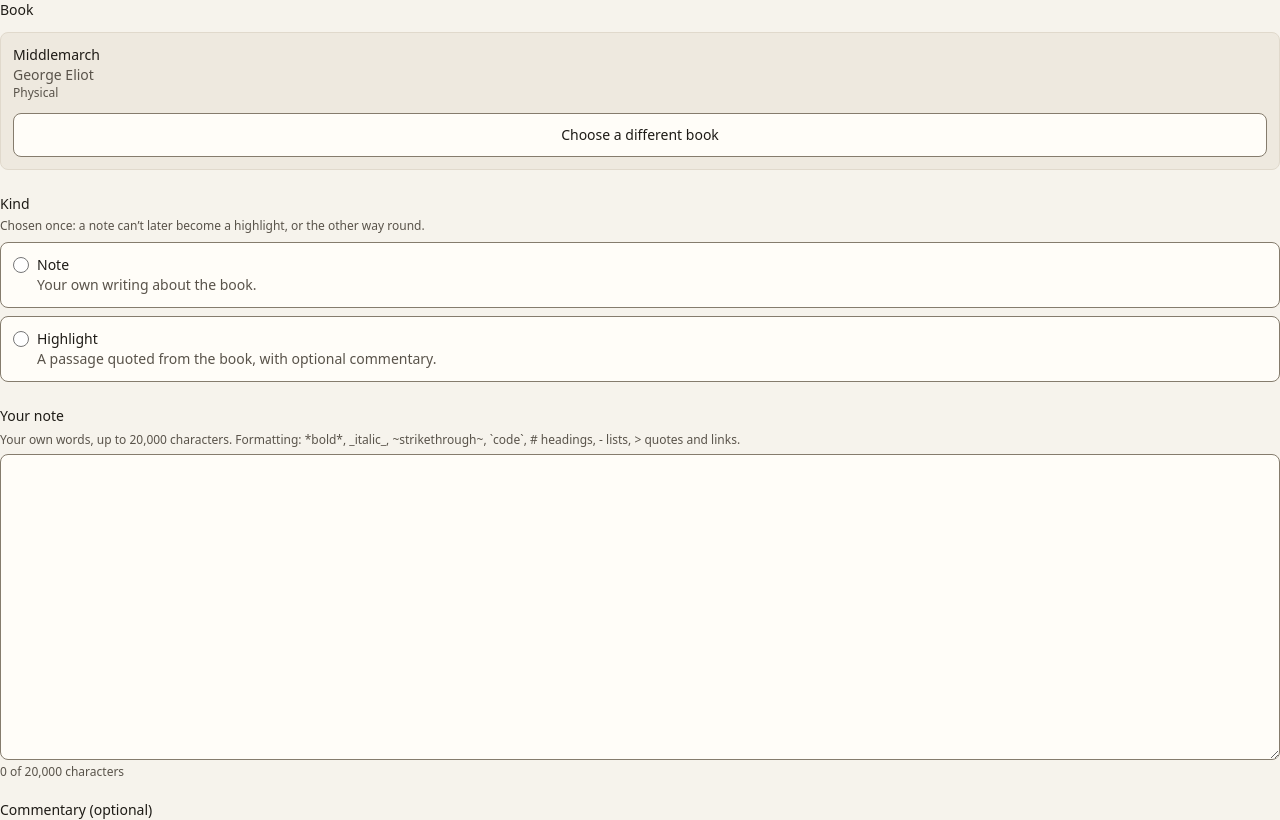
Test: NoteForm › reports an unconfirmed save honestly and never retries it by itself
The width and height of the screenshot is (1280, 820).
Click the radio button labelled "Note Your own writing about the book." at (21, 265), box [13, 257, 29, 273]
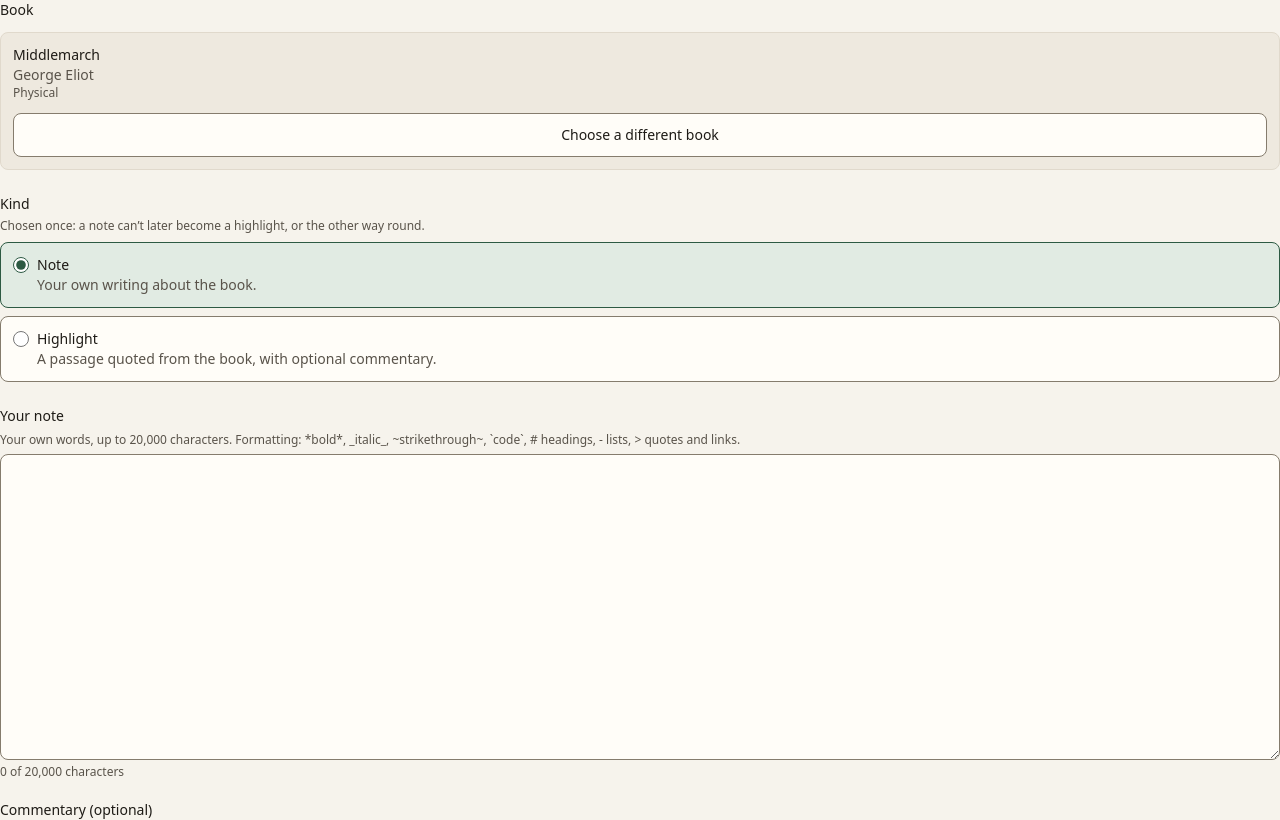
Type "Kept" into the text box named "content" at (640, 607), box [0, 454, 1279, 760]
(page scrolled)
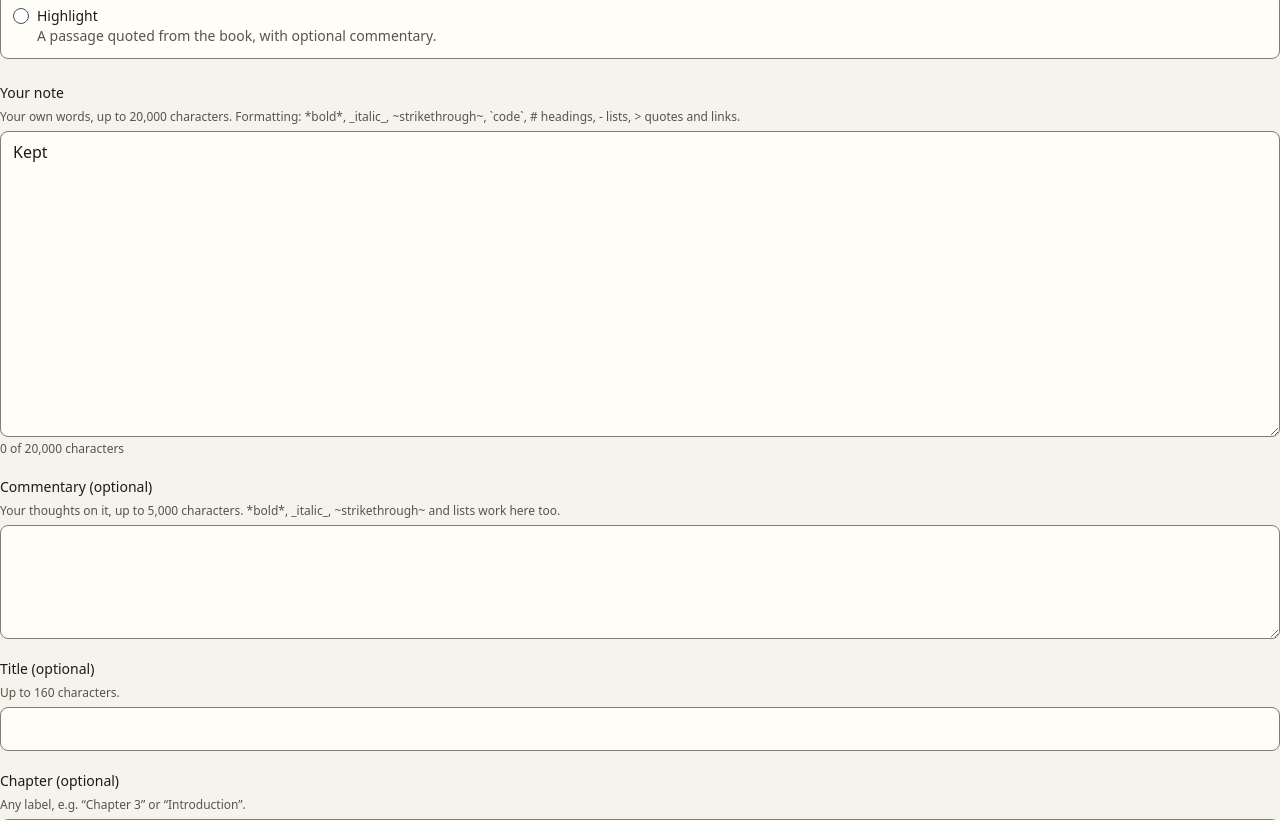
Submit the form
(page scrolled)
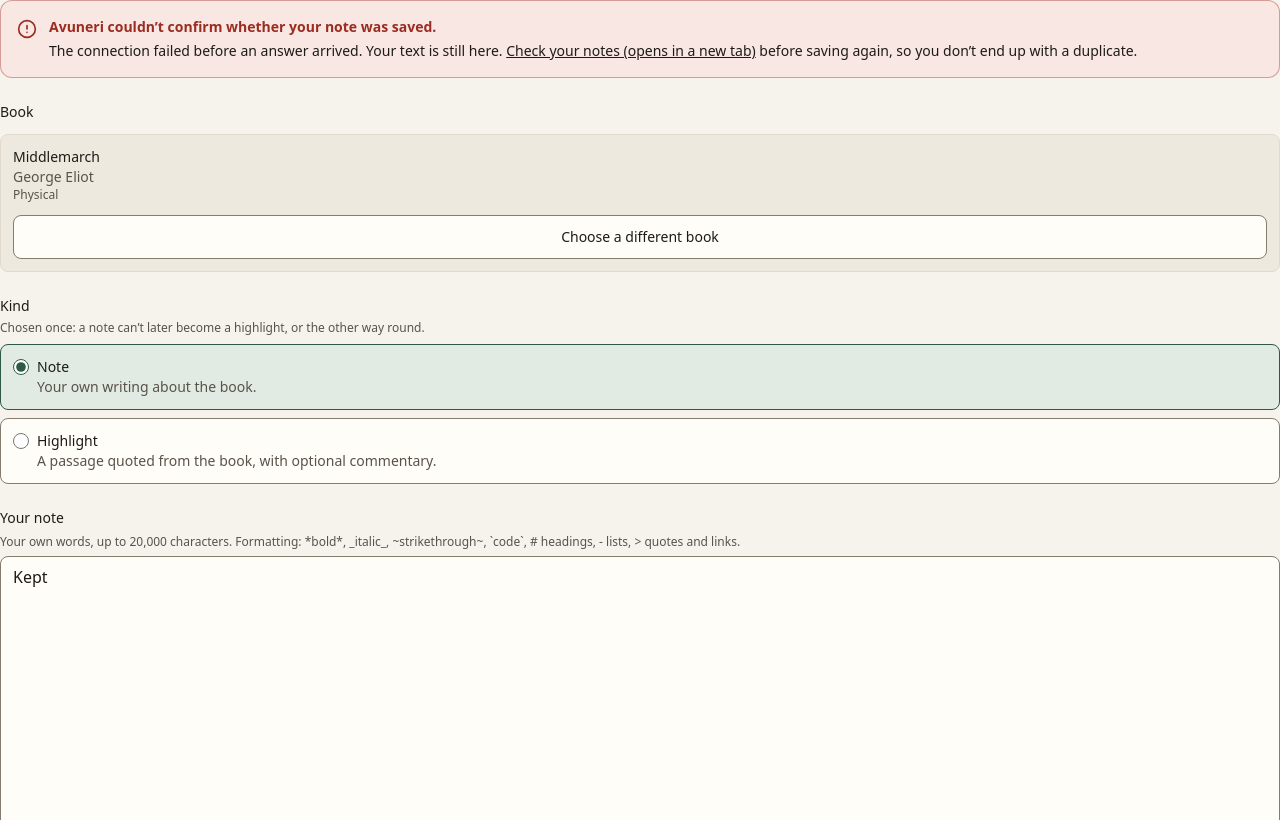
Result: the text "Avuneri couldn’t confirm whether your note was saved." is shown at [49, 17, 436, 36]
